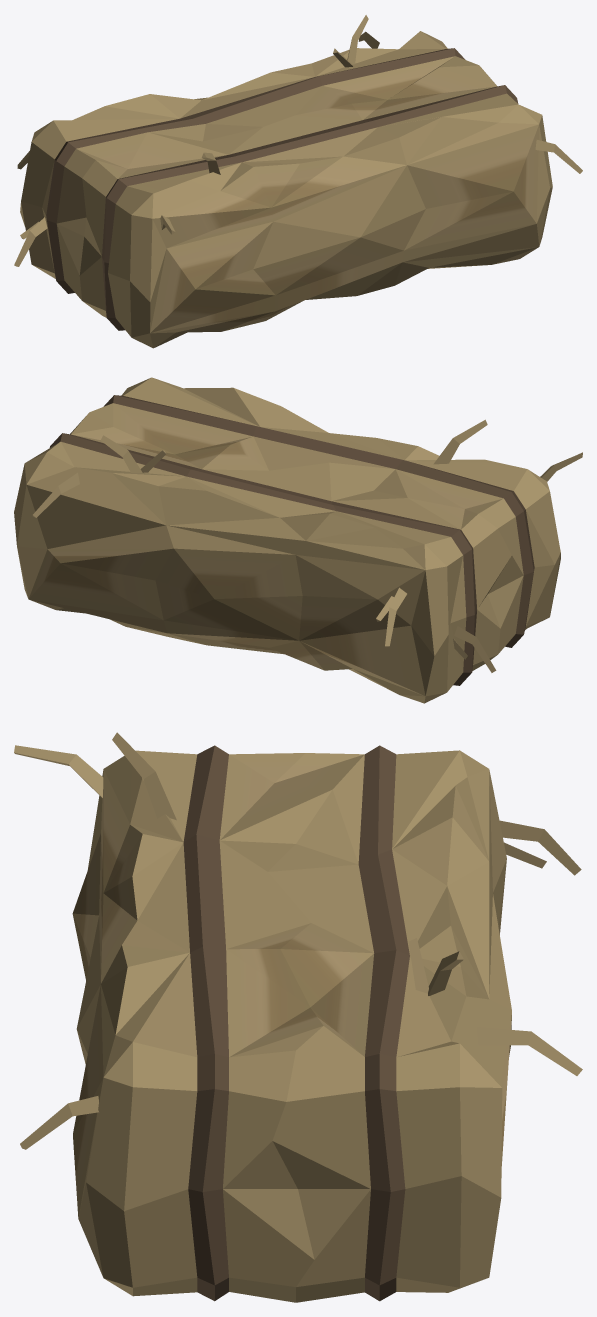
The model's file is SM_Prop_Hay_Bale_Square_01.glb.
The picture shows the model from 3 angles, top to bottom: view 1: azimuth 30°, elevation 25°; view 2: azimuth 150°, elevation 25°; view 3: azimuth 270°, elevation 25°; orthographic projection. The views are drawn at different scales.
Visible parts, largest first — view 1: SM_Prop_Hay_Bale_Square_01; view 2: SM_Prop_Hay_Bale_Square_01; view 3: SM_Prop_Hay_Bale_Square_01.
Part boxes in pixels (box(x1,y1,x2,y2)): SM_Prop_Hay_Bale_Square_01: box(14, 15, 582, 348); SM_Prop_Hay_Bale_Square_01: box(14, 377, 582, 703); SM_Prop_Hay_Bale_Square_01: box(14, 732, 582, 1302).
Bounding box in the file's own units: 246 × 108 × 164.
Materials: 1 (1 with a texture image).
